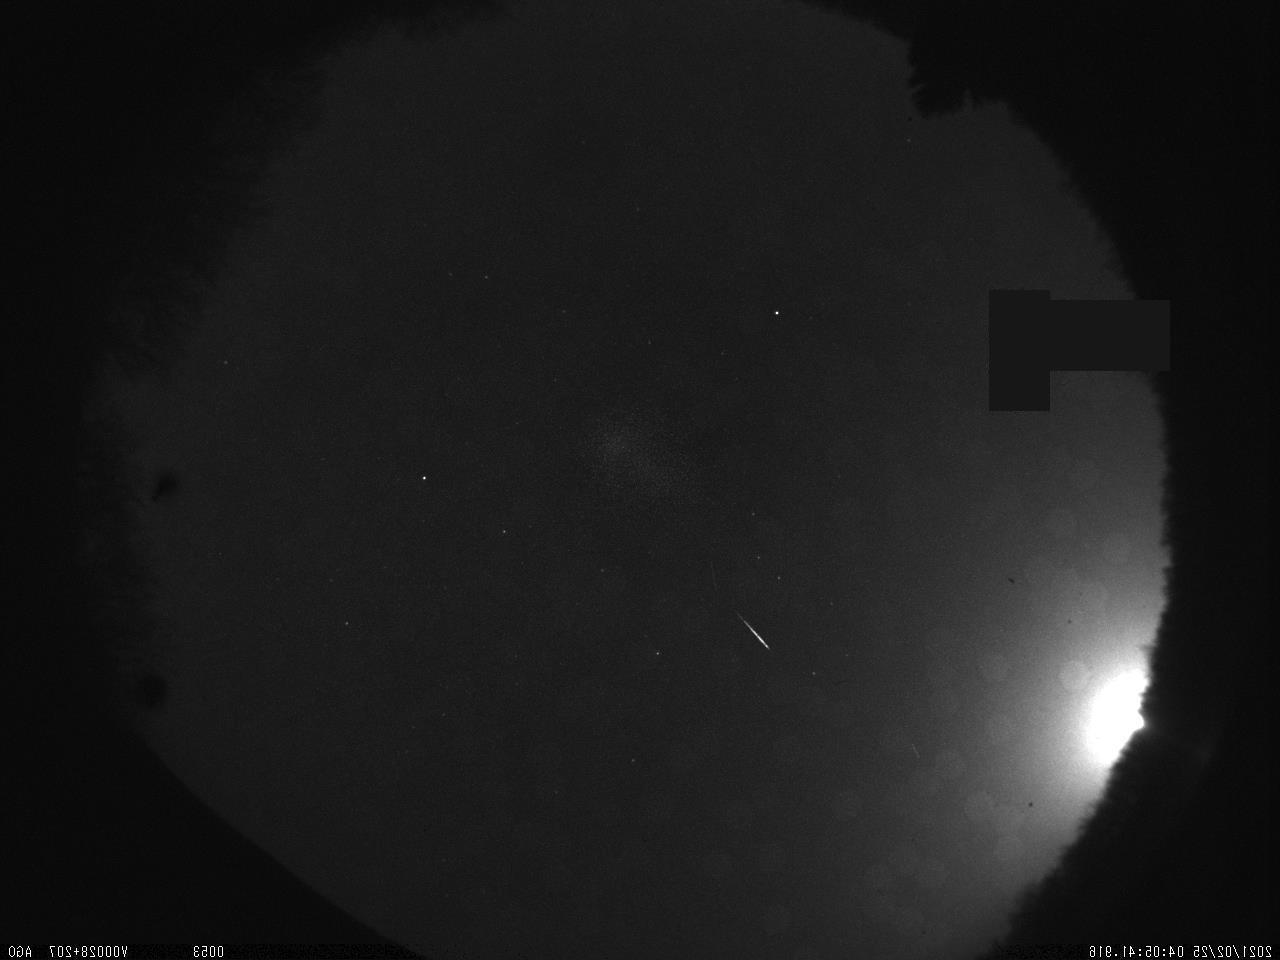meteor: (725, 606, 772, 657)
